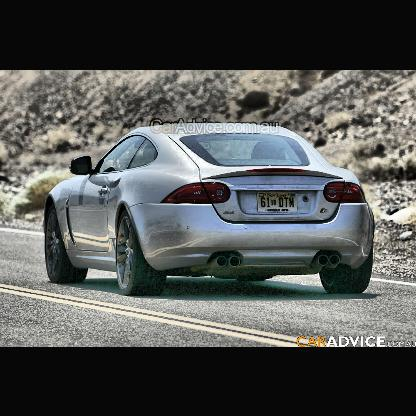Jaguar XK XKR 2012: (44, 126, 377, 299)
